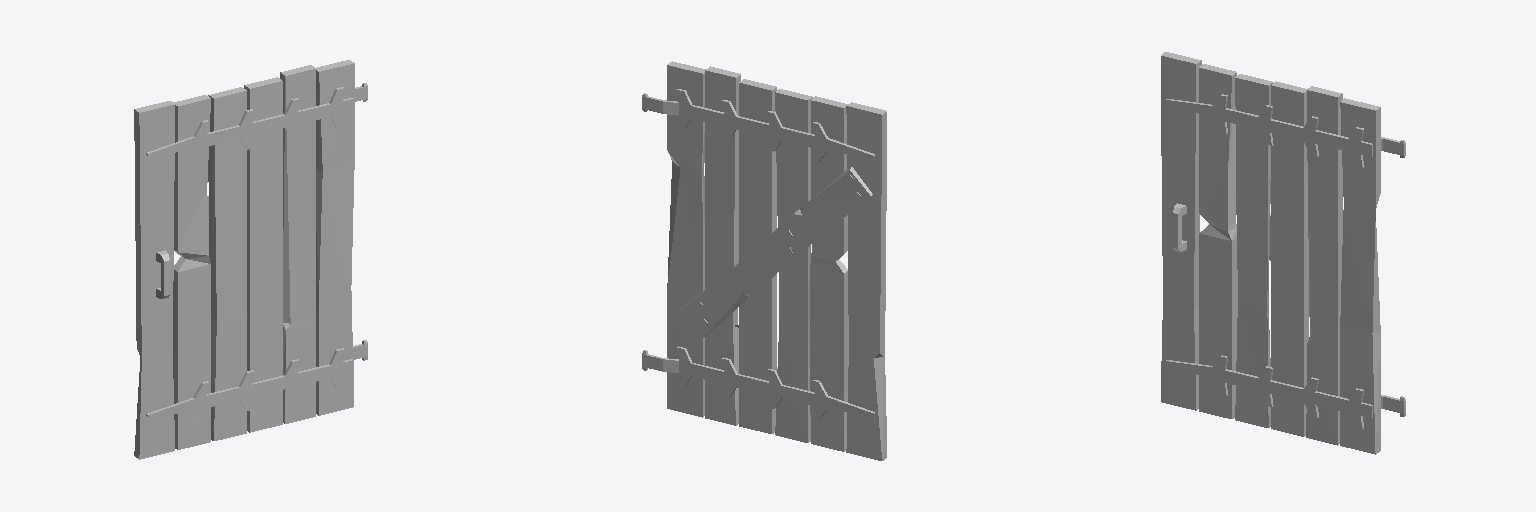
File: Door_2.obj
3 renders of one model, left to right at view 1: azimuth 30°, elevation 25°; view 2: azimuth 150°, elevation 25°; view 3: azimuth 330°, elevation 25°, orthographic.
Visible parts, largest first — view 1: Door_2; view 2: Door_2; view 3: Door_2.
Part boxes in pixels (x1,y1,x2,y2): Door_2: (134, 60, 367, 459); Door_2: (642, 61, 886, 460); Door_2: (1161, 52, 1405, 454).
Bounding box in the file's own units: 1.42 × 2 × 0.1622.